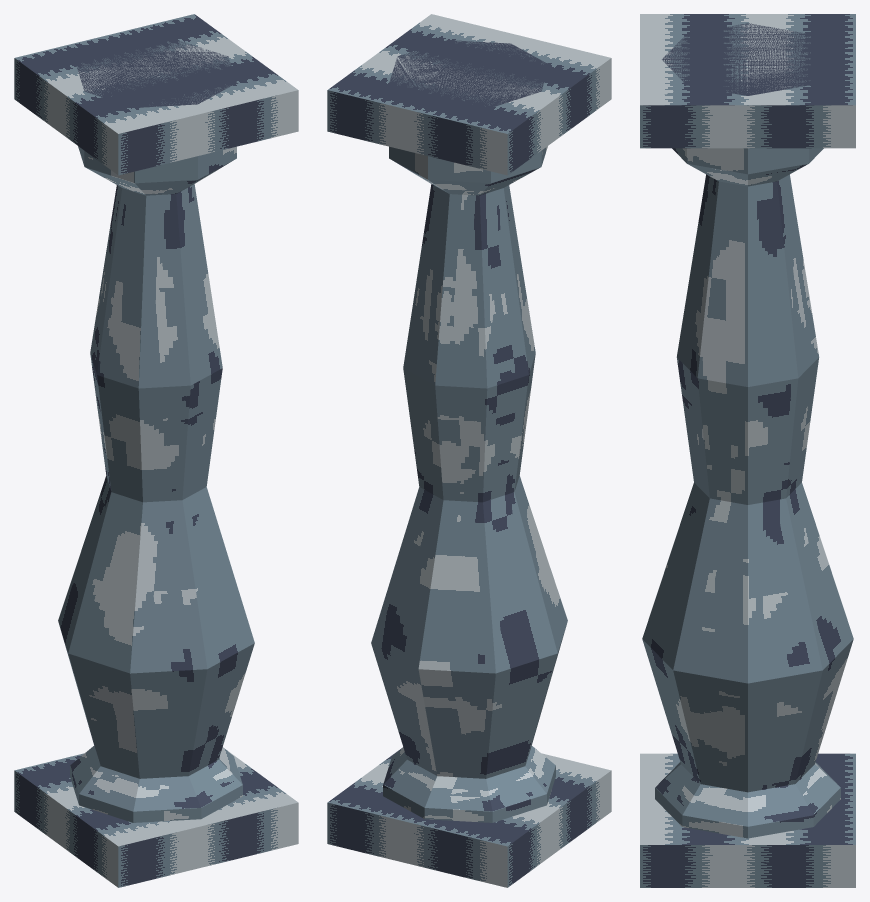
The model's file is ORN-12_Remate_de_barandilla_a.gltf.
3 views of the same model, side by side, from view 1: azimuth 30°, elevation 25°; view 2: azimuth 150°, elevation 25°; view 3: azimuth 270°, elevation 25° (orthographic). The views are drawn at different scales.
Parts seen in each view (by area): view 1: ORN-12_Remate_de_barandilla_a-convcol; view 2: ORN-12_Remate_de_barandilla_a-convcol; view 3: ORN-12_Remate_de_barandilla_a-convcol.
Boxes of the visible parts, box(x1,y1,x2,y2) form: ORN-12_Remate_de_barandilla_a-convcol: box(14, 14, 298, 887); ORN-12_Remate_de_barandilla_a-convcol: box(327, 14, 611, 887); ORN-12_Remate_de_barandilla_a-convcol: box(640, 14, 855, 887).
Size of the model in its own units: 0.25 by 1 by 0.25.
1 material, 1 textured.
